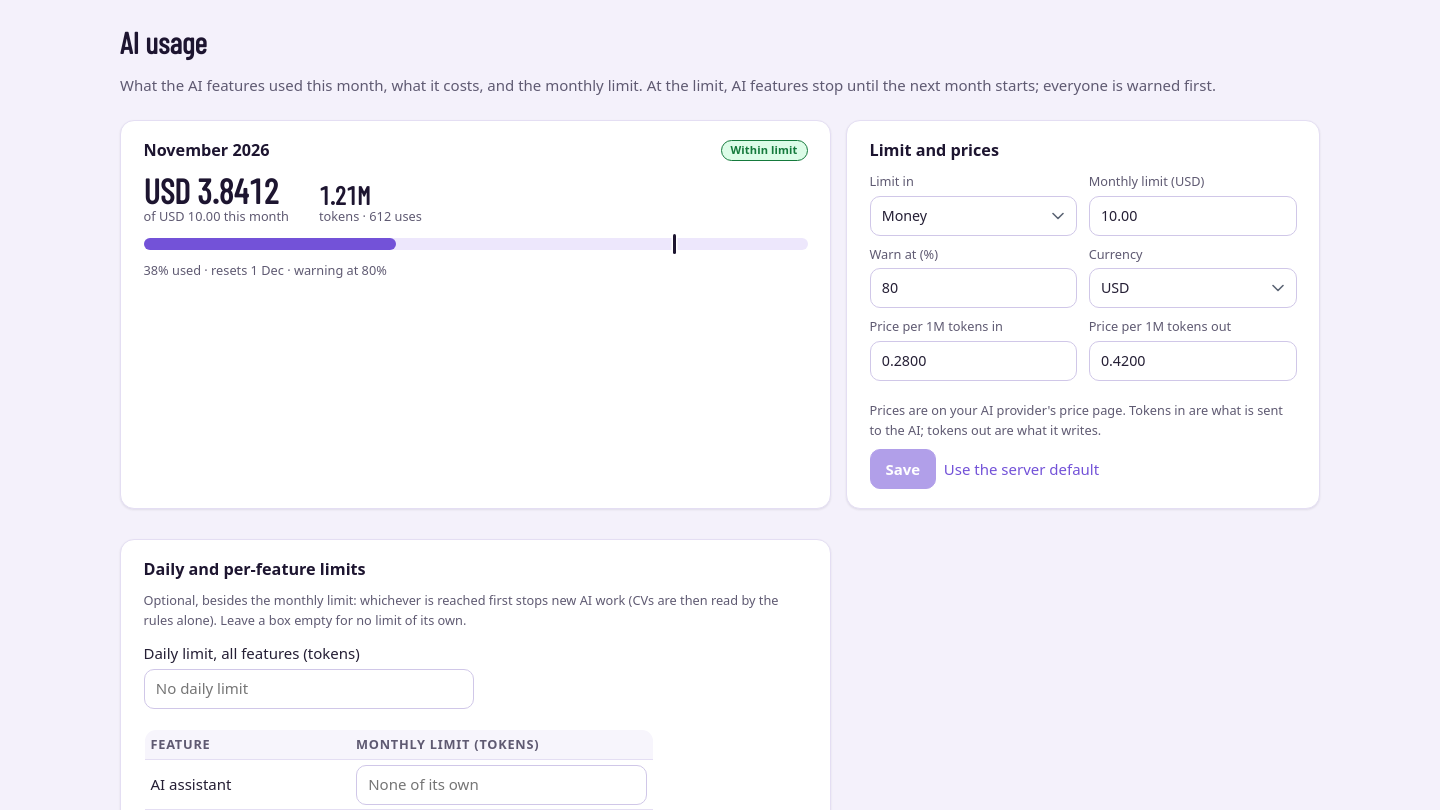
Test: Settings › AI usage › reloads someone else's newer settings and says so
This screenshot has width=1440, height=810.
Step 1. Replace the text in the field labelled "Monthly limit (USD)" with "12.00" → {"x": 1193, "y": 216}, box [1089,196,1296,236]
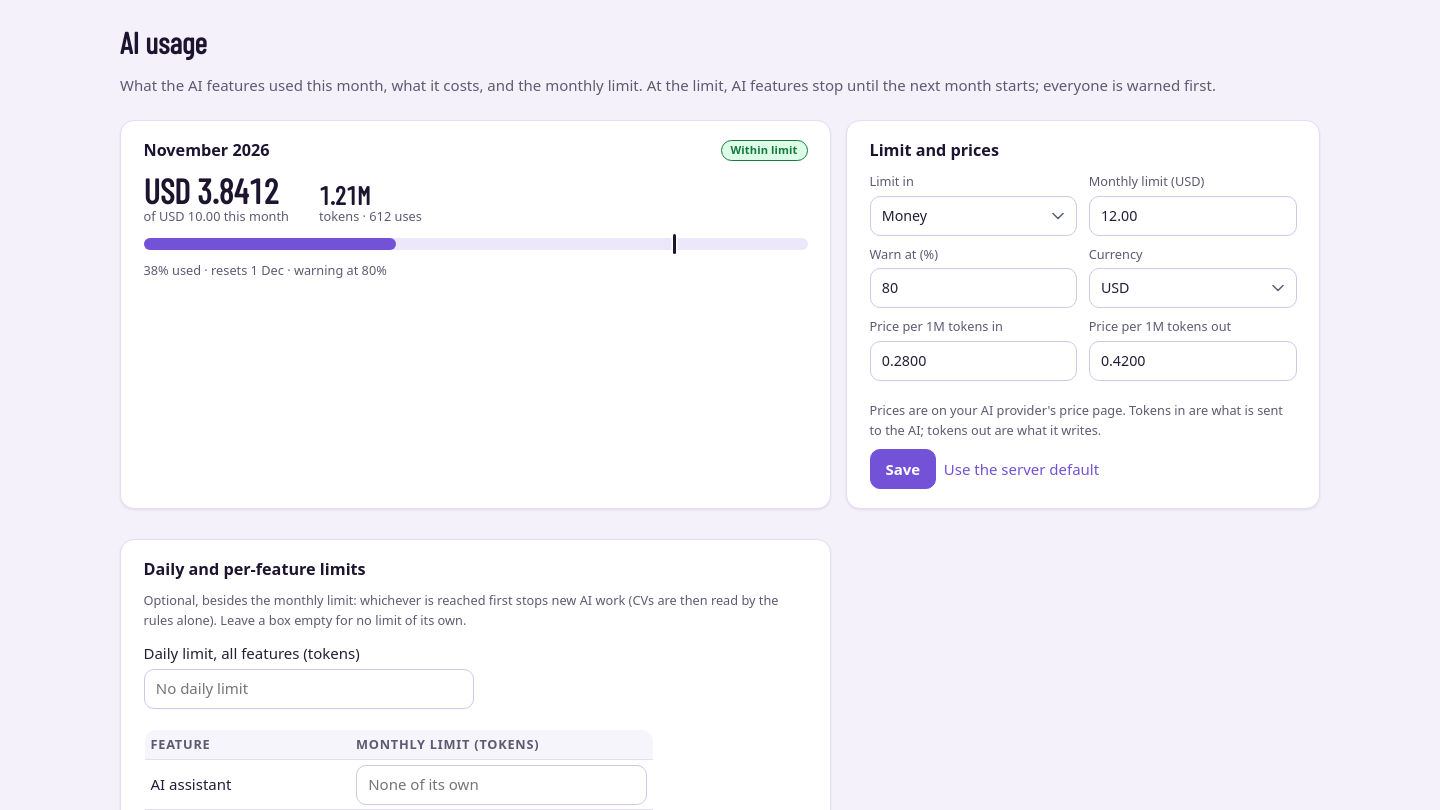
Step 2. Click the button "Save" → {"x": 903, "y": 469}, box [870,449,936,489]
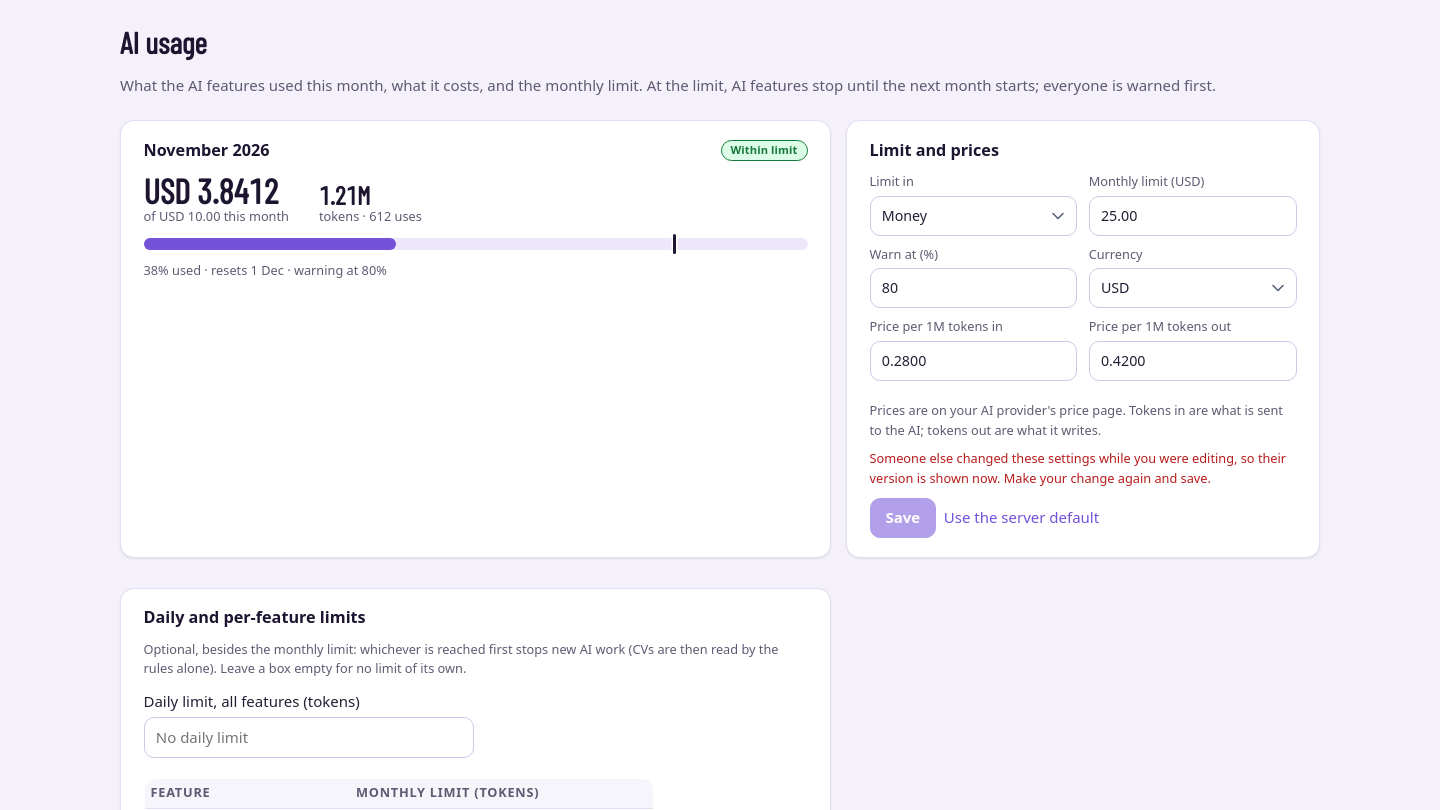
expect the text "Someone else changed these settings while you were editing" is shown: met, box [870,449,1286,487]
expect the field labelled "Monthly limit (USD)" holds "25.00": met, box [1089,196,1296,236]
